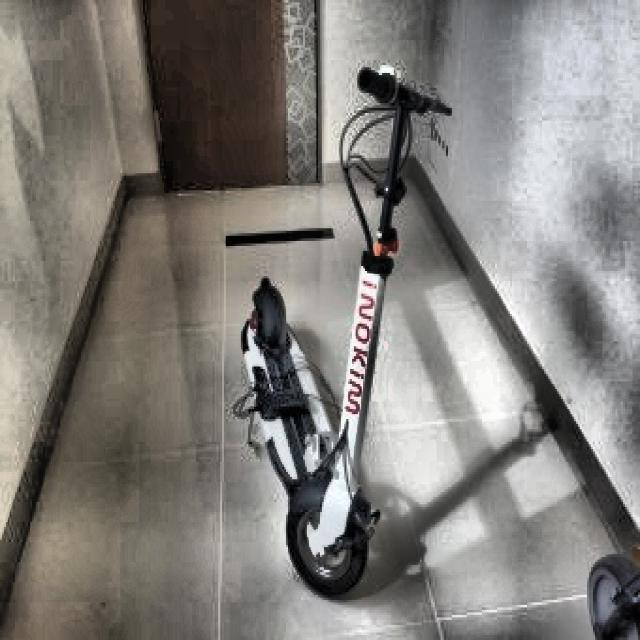bike: (238, 274, 392, 597)
